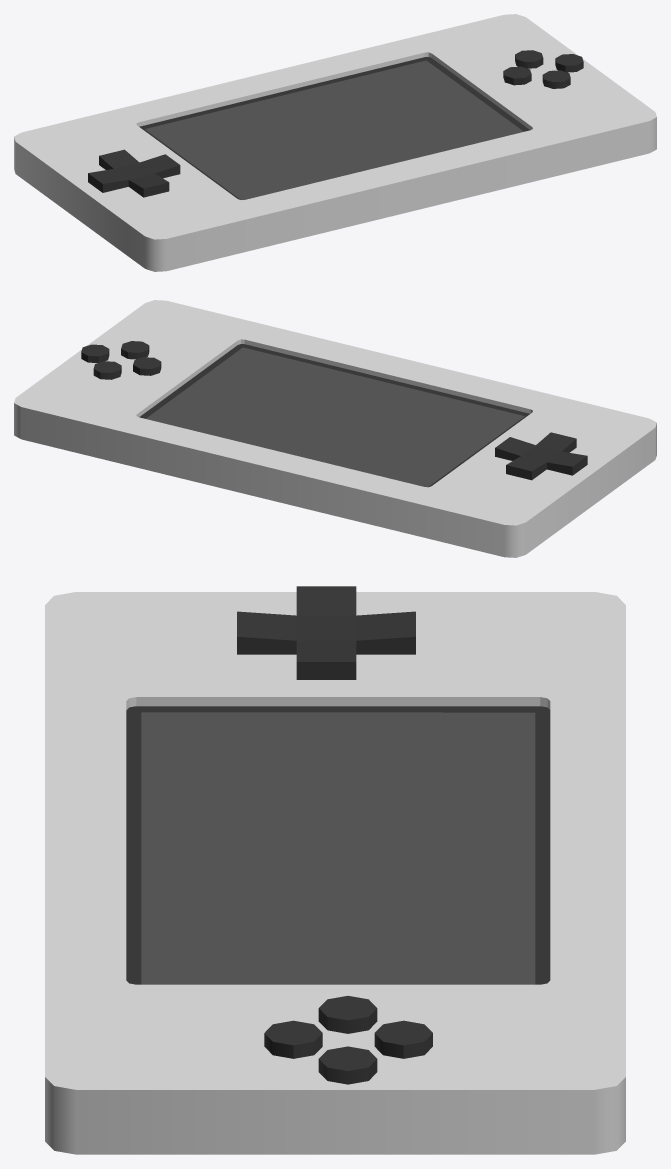
Rendered from Console_Mintendo_DX.obj.
3 renders of one model, top to bottom at view 1: azimuth 30°, elevation 25°; view 2: azimuth 150°, elevation 25°; view 3: azimuth 270°, elevation 25°, orthographic. The views are drawn at different scales.
Visible parts, largest first — view 1: Console_Mintendo_DX; view 2: Console_Mintendo_DX; view 3: Console_Mintendo_DX.
Part boxes in pixels (left/top/right/bottom): Console_Mintendo_DX: left=14, top=14, right=656, bottom=271; Console_Mintendo_DX: left=14, top=300, right=656, bottom=557; Console_Mintendo_DX: left=45, top=586, right=625, bottom=1154.
Bounding box in the file's own units: 0.282 × 0.0219 × 0.1391.
